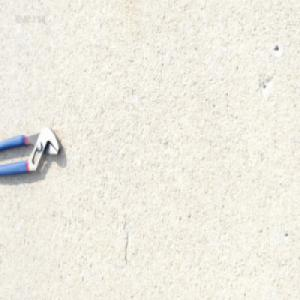Pliers: (0, 125, 61, 179)
